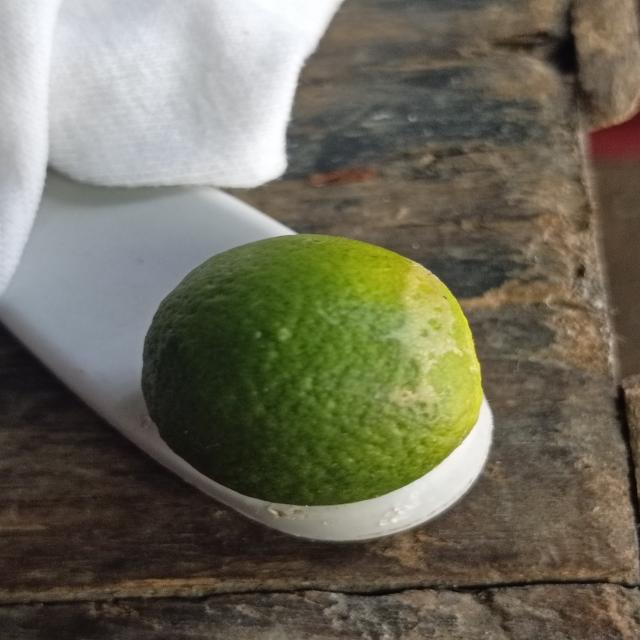thrips: (150, 224, 486, 493)
